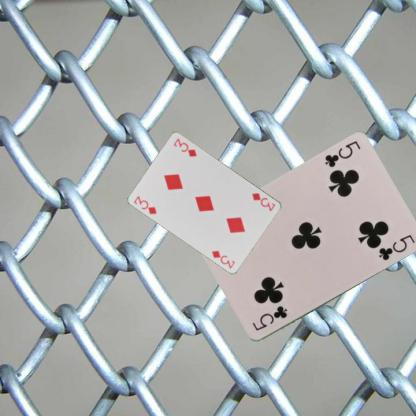3d: (249, 190, 276, 213), (132, 193, 158, 216)
5c: (322, 138, 362, 169), (250, 303, 288, 333)
